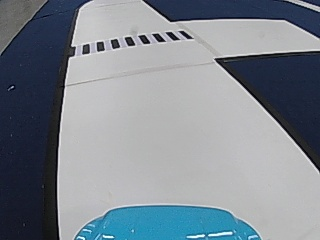CrossWalk: (72, 29, 191, 54)
